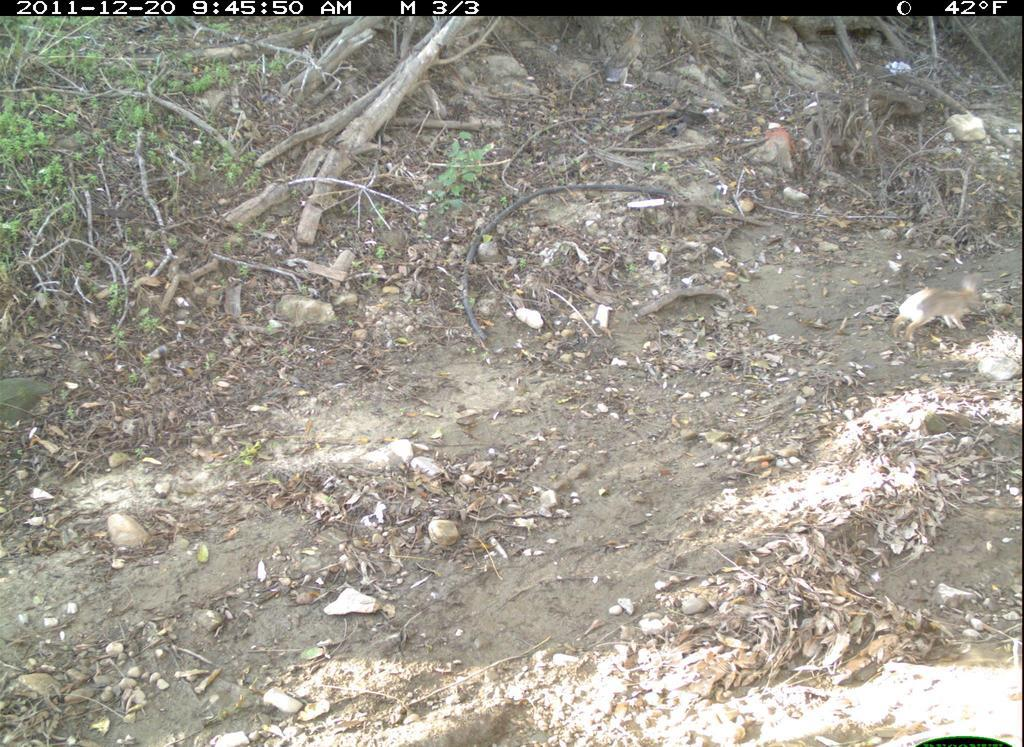rabbit: (884, 271, 989, 358)
